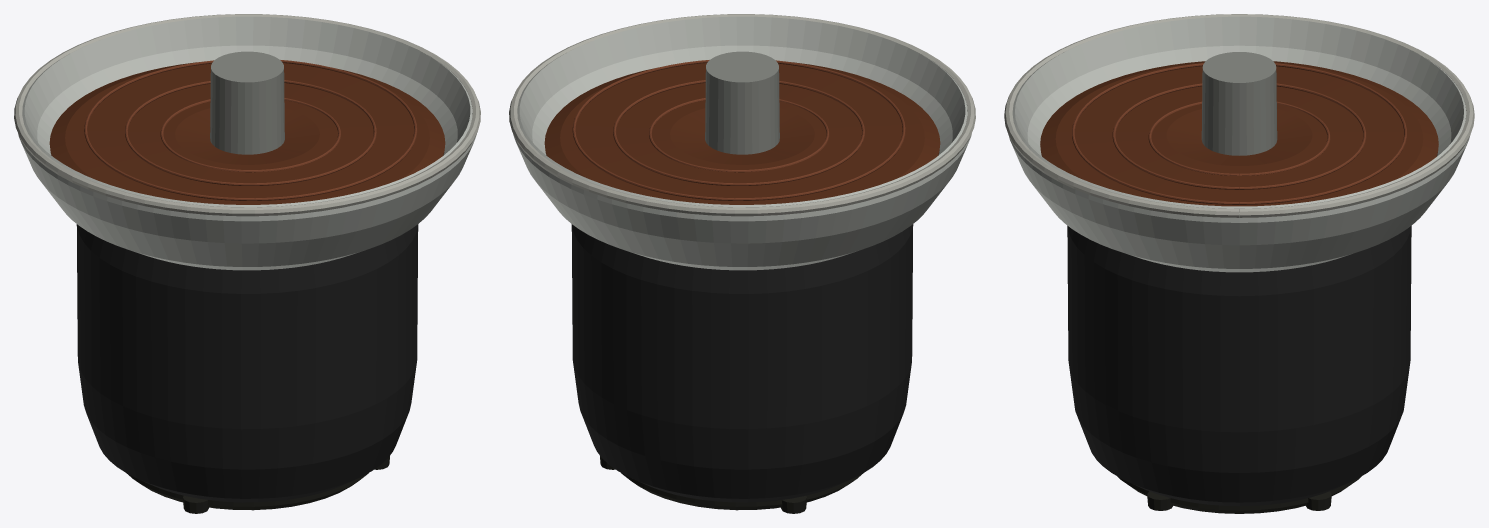
The model's file is fountain.glb.
3 views of the same model, side by side, from view 1: azimuth 30°, elevation 25°; view 2: azimuth 150°, elevation 25°; view 3: azimuth 270°, elevation 25° (orthographic).
Visible parts, largest first — view 1: fountain; view 2: fountain; view 3: fountain.
Boxes of the visible parts, bbox=[...] form: fountain: bbox=[14, 14, 480, 513]; fountain: bbox=[509, 14, 975, 513]; fountain: bbox=[1004, 14, 1474, 513].
Bounding box in the file's own units: 0.484 × 0.447 × 0.484.
